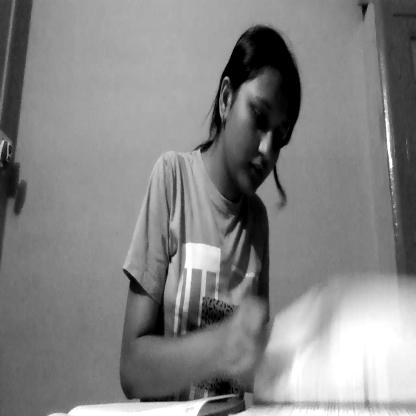Distracted: (222, 62, 291, 199)
